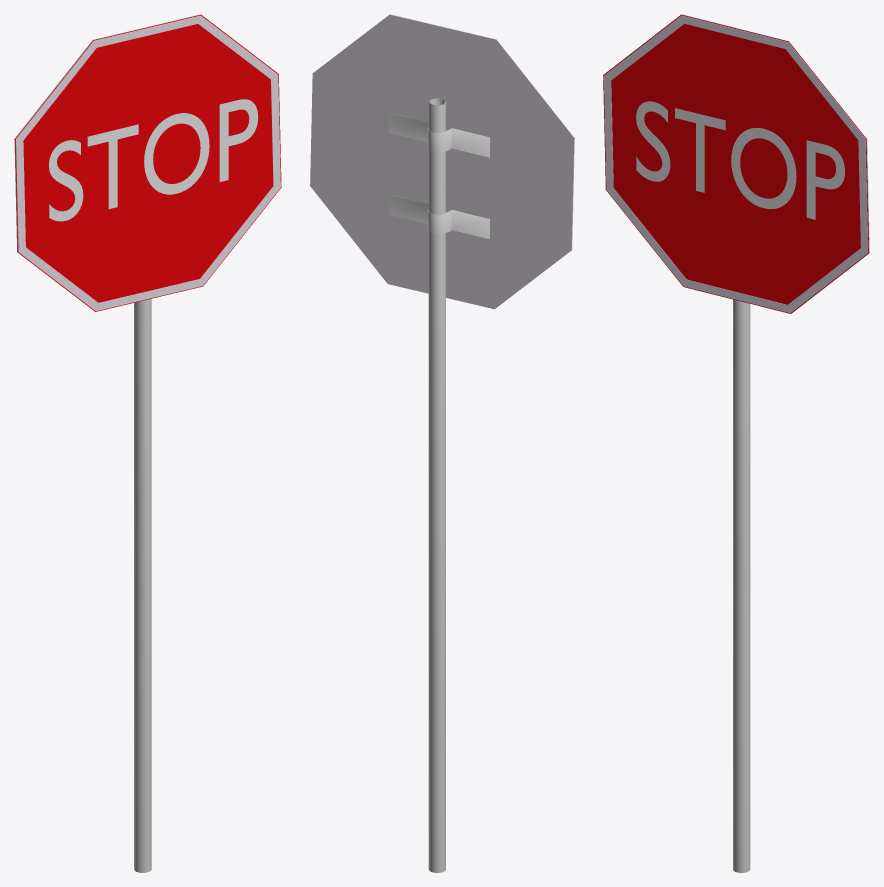
3 views of the same model, side by side, from view 1: azimuth 30°, elevation 25°; view 2: azimuth 150°, elevation 25°; view 3: azimuth 330°, elevation 25° (orthographic).
Visible parts, largest first — view 1: Cube_0, Cylinder_2, STOP.001_5; view 2: Cube_0, Cylinder_2, Cylinder.001_3, Cylinder.002_4; view 3: Cube_0, Cylinder_2, STOP.001_5.
Boxes of the visible parts, bbox=[...] form: Cube_0: bbox=[14, 14, 281, 311]; Cylinder_2: bbox=[134, 299, 151, 872]; STOP.001_5: bbox=[49, 99, 258, 221]; Cube_0: bbox=[310, 14, 574, 309]; Cylinder_2: bbox=[428, 98, 445, 872]; Cylinder.001_3: bbox=[388, 112, 489, 157]; Cylinder.002_4: bbox=[388, 194, 489, 239]; Cube_0: bbox=[603, 14, 869, 313]; Cylinder_2: bbox=[733, 299, 750, 872]; STOP.001_5: bbox=[636, 101, 844, 219].
Size of the model in its own units: 6.93 by 21.04 by 0.489.
